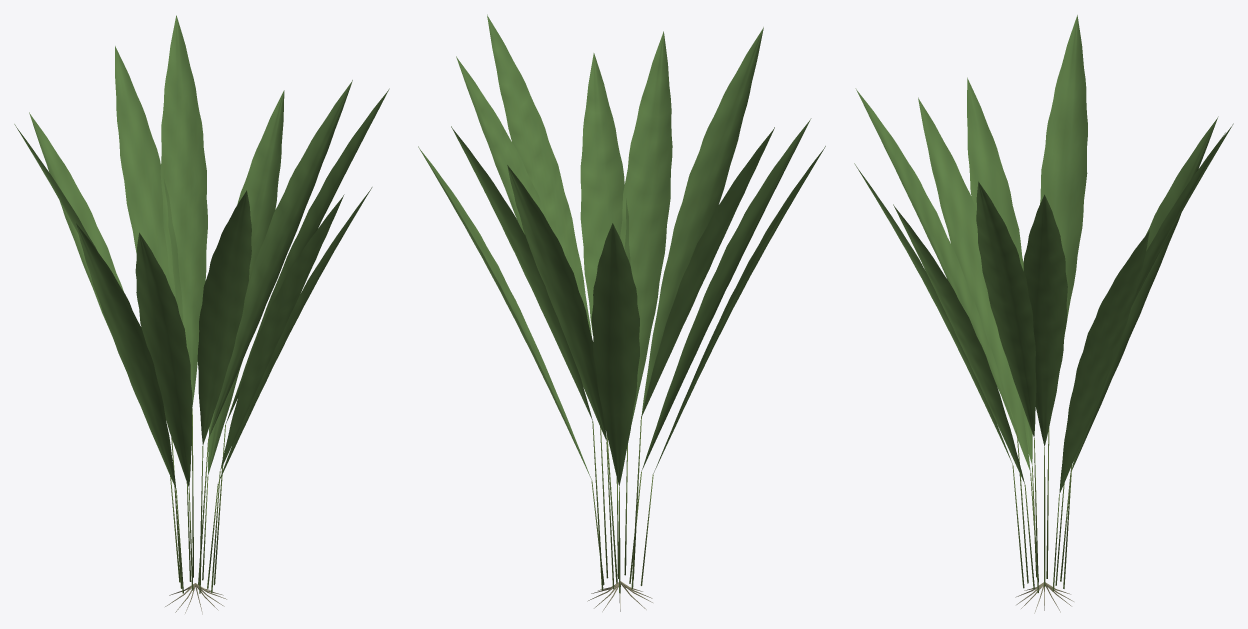
The model's file is swordplant-desktop.glb.
3 views of the same model, side by side, from view 1: azimuth 30°, elevation 25°; view 2: azimuth 150°, elevation 25°; view 3: azimuth 270°, elevation 25° (orthographic). The views are drawn at different scales.
Parts seen in each view (by area): view 1: blade, petiole; view 2: blade, petiole; view 3: blade, petiole.
Part boxes in pixels (x1,y1,x2,y2): blade: (14,15,389,489); petiole: (170,408,225,593); blade: (418,14,825,485); petiole: (591,416,653,593); blade: (854,15,1233,494); petiole: (1012,428,1072,592).
Size of the model in its own units: 0.751 by 1.12 by 0.7574.
